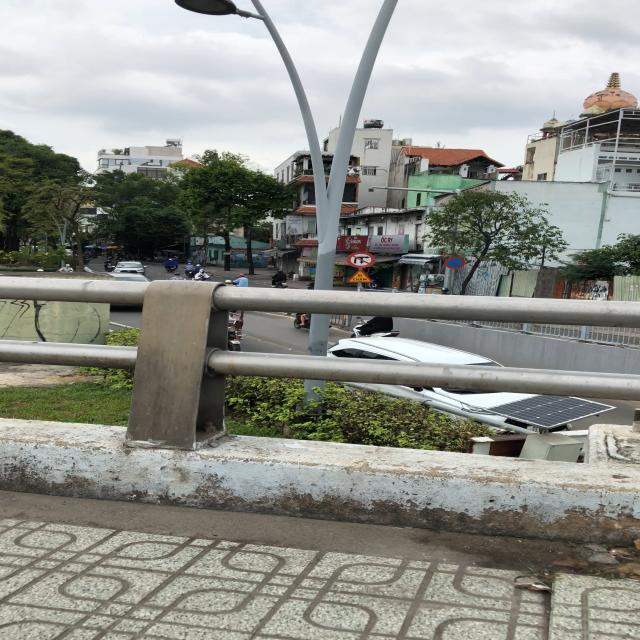Bien bao cam re phai va quay dau: (344, 250, 378, 270)
